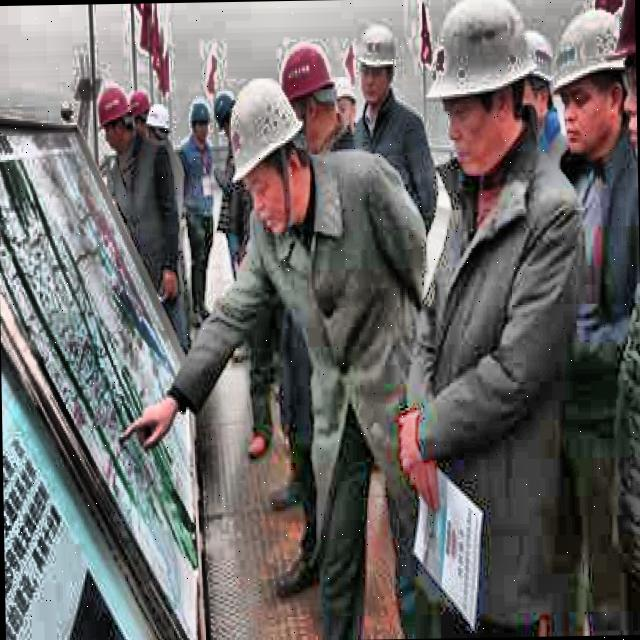helmet: (428, 0, 532, 175), (548, 5, 630, 166), (226, 82, 309, 230), (280, 36, 341, 142), (353, 16, 398, 112), (522, 32, 558, 122), (100, 78, 138, 150), (333, 66, 363, 130), (146, 96, 172, 152), (125, 80, 153, 131), (212, 90, 238, 144), (188, 98, 211, 146)
